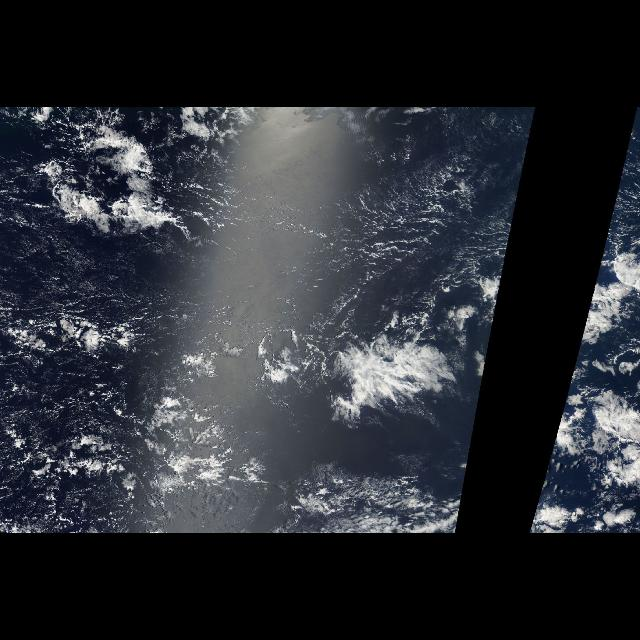Gravel: (9, 382, 257, 526)
Sugar: (266, 120, 534, 334)
